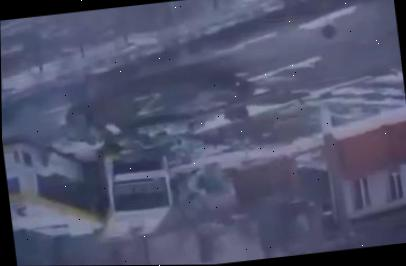tank: (56, 60, 285, 166)
